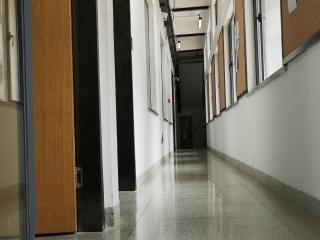room: (1, 1, 108, 232), (109, 2, 139, 193)
